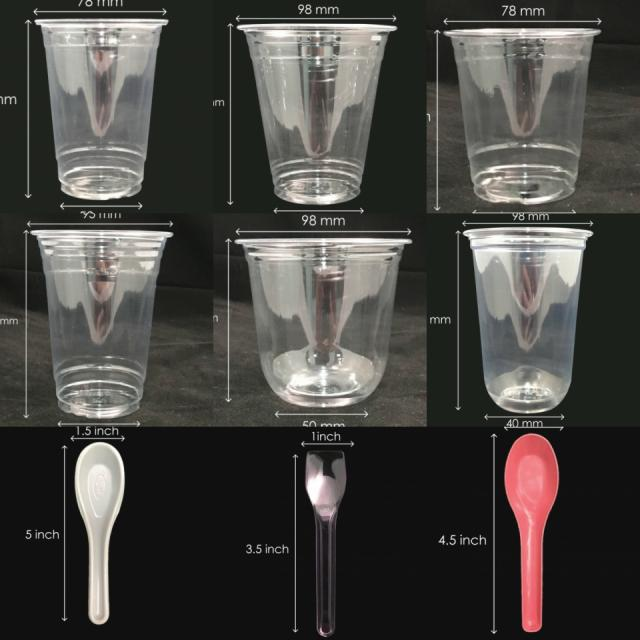Single-Use-Plastic: (235, 239, 410, 408), (238, 24, 396, 204), (445, 29, 600, 203), (33, 230, 172, 419), (35, 19, 168, 199), (465, 228, 592, 414), (505, 434, 559, 632), (75, 442, 125, 624), (305, 451, 346, 636)
